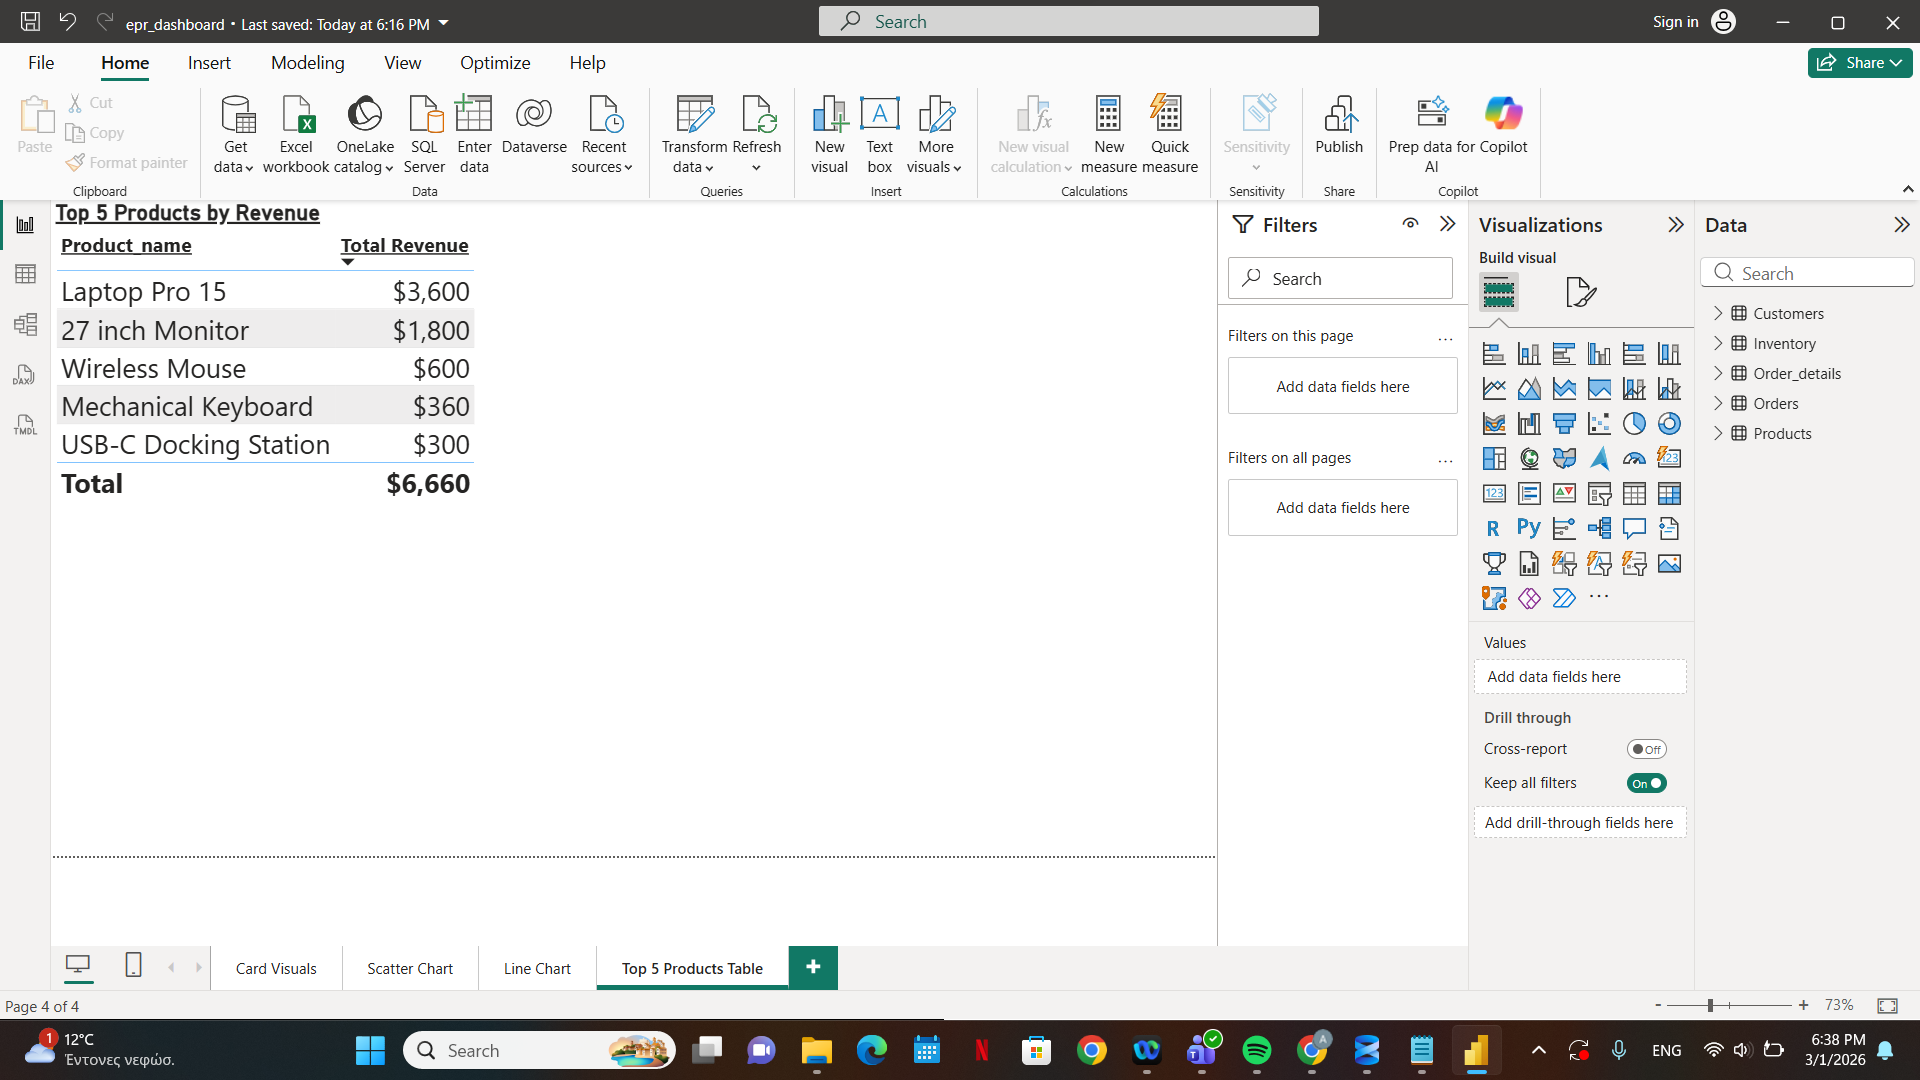

The dashboard page shown, as its layout file describes it:
{"tool":"powerbi","page":{"name":"Top 5 Products Table","canvas":[1280,720],"ordinal":3},"visuals":[{"type":"tableEx","title":"Top 5 Products by Revenue","fields":{"Values":["Products.Product_name","Order_details.Total Revenue"]},"box":[0,0,1280.3,720.4],"z":0}]}

Visuals, with their boxes on the page's 1280x720 design canvas (x1, y1, x2, y2). These are canvas units, not pixel positions in the 1920x1080 screenshot, which may show the page scaled, cropped or inside an application window:
"Top 5 Products by Revenue" tableEx: 0, 0, 1280, 720
